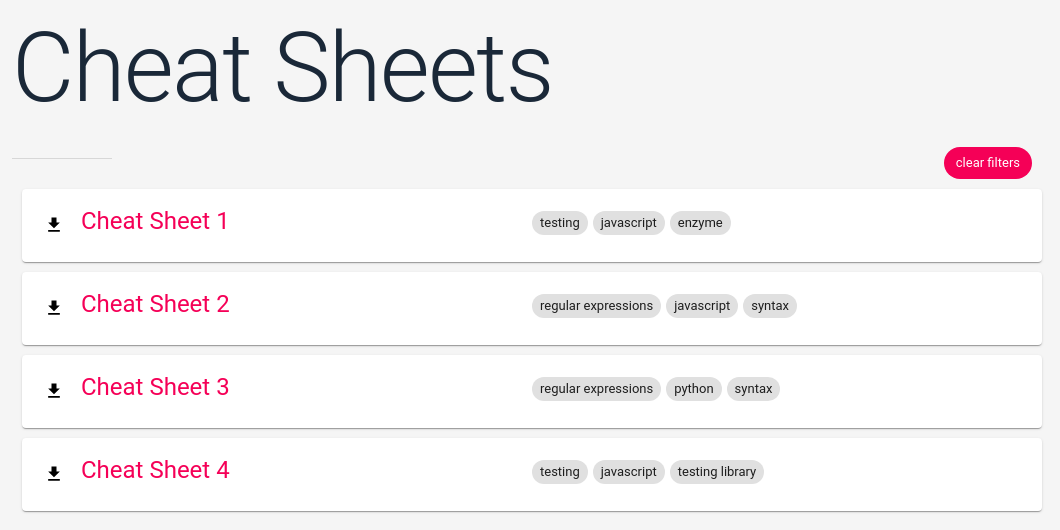
Test case: clicking chips filters cheat sheets
The width and height of the screenshot is (1060, 530).
Expected: the number of links "Cheat Sheet 1" is 4, [76,213,230,232]; [76,296,230,315]; [76,379,230,398]; [76,462,230,481]
Click the button "javascript" in the row of "Cheat Sheet 1": [629, 223] box [593,211,665,235]
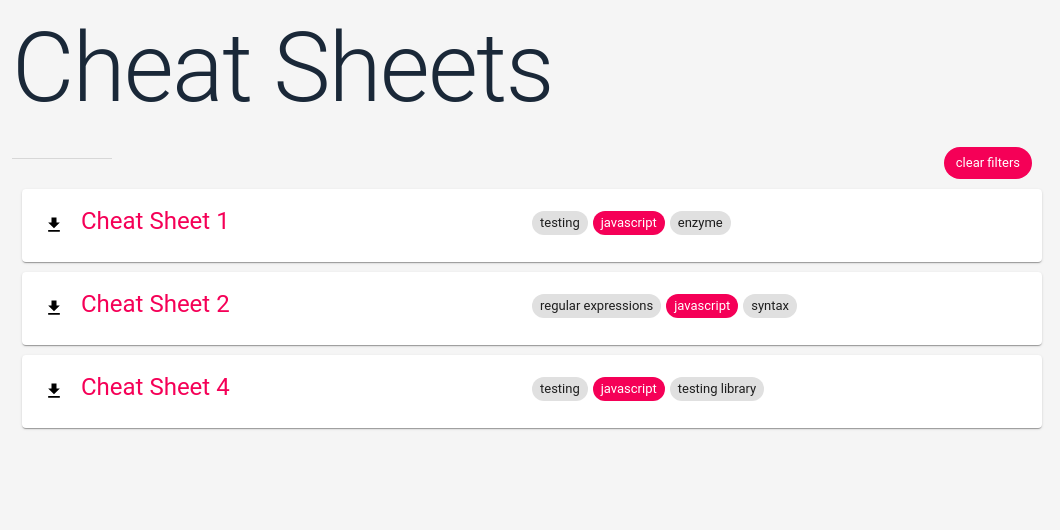
Result: the number of links "Cheat Sheet 1" is 3 at [76,213,230,232]; [76,296,230,315]; [76,379,230,398]
Click the button "testing" in the row of "Cheat Sheet 1": [560, 223] box [532,211,588,235]
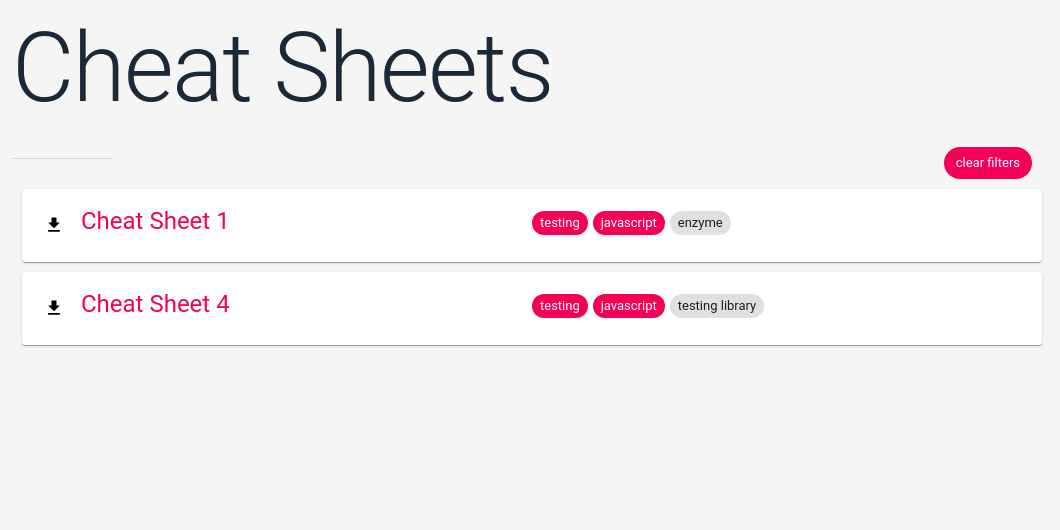
Result: the number of links "Cheat Sheet 1" is 2 at [76,213,230,232]; [76,296,230,315]
Click the button "testing" in the row of "Cheat Sheet 1": [560, 223] box [532,211,588,235]
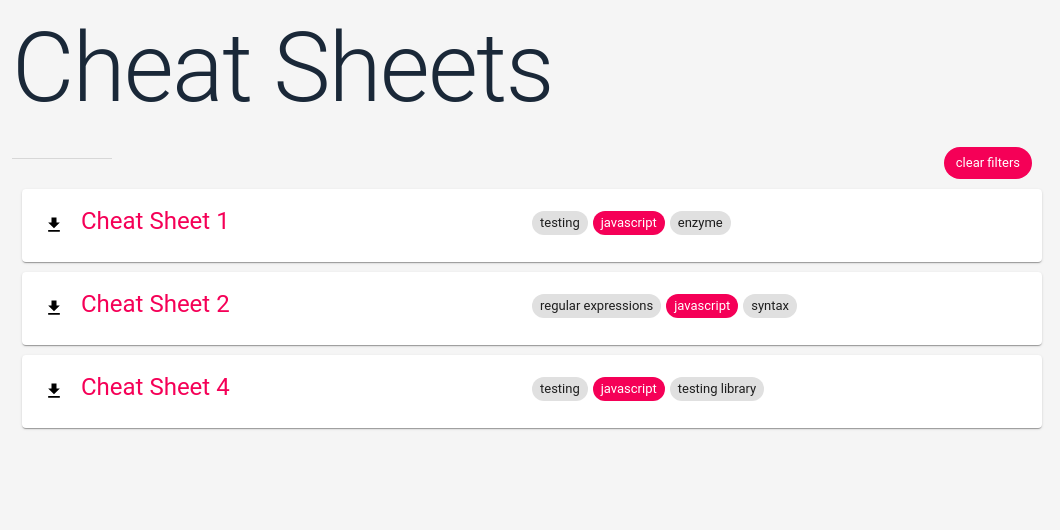
Result: the number of links "Cheat Sheet 1" is 3 at [76,213,230,232]; [76,296,230,315]; [76,379,230,398]
Note: click on "clear filters" to show all again
Click the button "clear filters": [988, 163] box [944,147,1032,179]
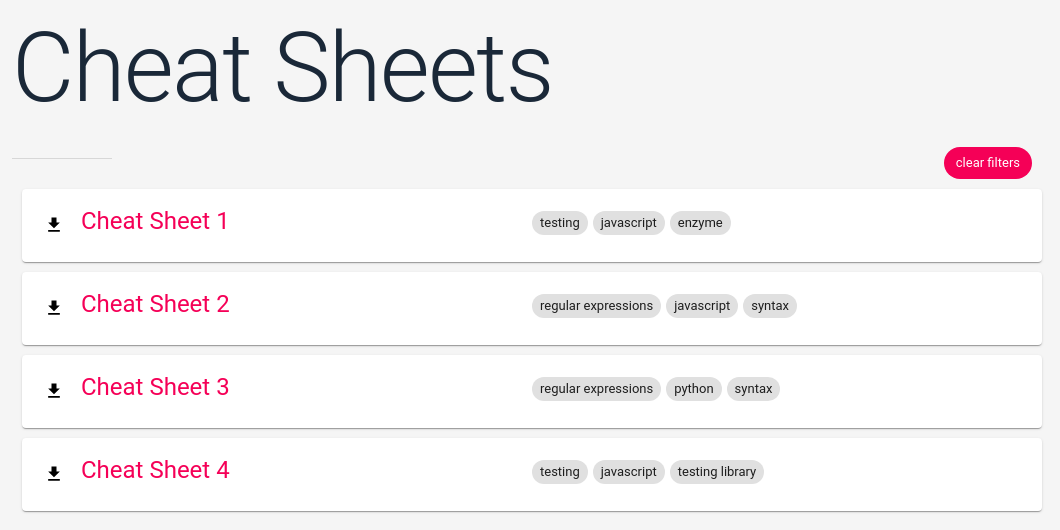
Result: the number of links "Cheat Sheet 1" is 4 at [76,213,230,232]; [76,296,230,315]; [76,379,230,398]; [76,462,230,481]
